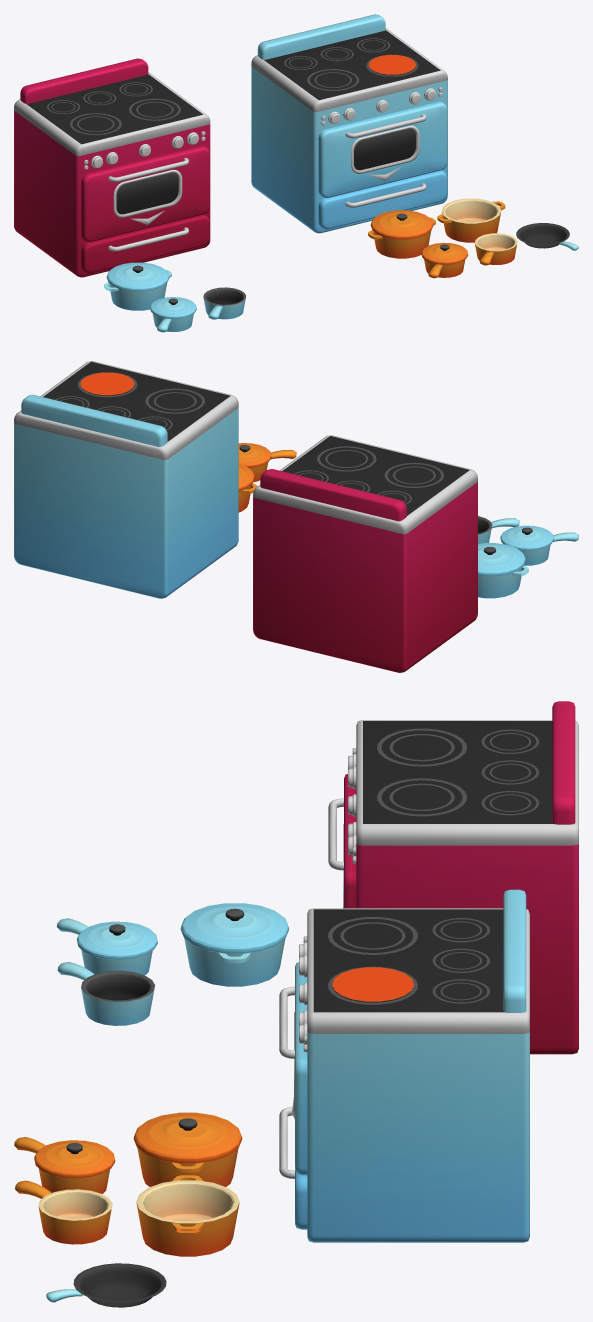
File: Kitchen Parts.fbx
The picture shows the model from 3 angles, top to bottom: view 1: azimuth 30°, elevation 25°; view 2: azimuth 150°, elevation 25°; view 3: azimuth 270°, elevation 25°; orthographic projection. The views are drawn at different scales.
Parts seen in each view (by area): view 1: polySurface2138, polySurface1855, polySurface2447, polySurface2524, polySurface2497, polySurface2472, polySurface2523, polySurface2411, polySurface161, polySurface2505; view 2: polySurface2138, polySurface1855, polySurface2524, polySurface2523, polySurface2472, polySurface2447, polySurface2411; view 3: polySurface1855, polySurface2138, polySurface2524, polySurface2497, polySurface2447, polySurface2505, polySurface2411, polySurface2472, polySurface2523, polySurface161.
Part boxes in pixels (box(x1,y1,x2,y2)): polySurface2138: box(14, 58, 210, 277); polySurface1855: box(251, 14, 447, 233); polySurface2447: box(368, 210, 435, 258); polySurface2524: box(104, 262, 171, 310); polySurface2497: box(437, 198, 505, 242); polySurface2472: box(421, 242, 468, 278); polySurface2523: box(150, 297, 196, 332); polySurface2411: box(203, 287, 245, 319); polySurface161: box(516, 223, 578, 250); polySurface2505: box(475, 233, 517, 265); polySurface2138: box(253, 435, 477, 672); polySurface1855: box(14, 361, 238, 598); polySurface2524: box(478, 543, 528, 598); polySurface2523: box(500, 525, 578, 565); polySurface2472: box(238, 443, 296, 482); polySurface2447: box(238, 463, 257, 512); polySurface2411: box(478, 516, 519, 543); polySurface1855: box(279, 889, 529, 1242); polySurface2138: box(328, 701, 578, 1054); polySurface2524: box(180, 903, 288, 986); polySurface2497: box(136, 1175, 239, 1256); polySurface2447: box(133, 1112, 242, 1186); polySurface2505: box(15, 1180, 112, 1244); polySurface2411: box(57, 962, 155, 1025); polySurface2472: box(14, 1137, 115, 1193); polySurface2523: box(56, 918, 157, 975); polySurface161: box(46, 1263, 166, 1307).
Bounding box in the file's own units: 30677 × 10678 × 20323.
